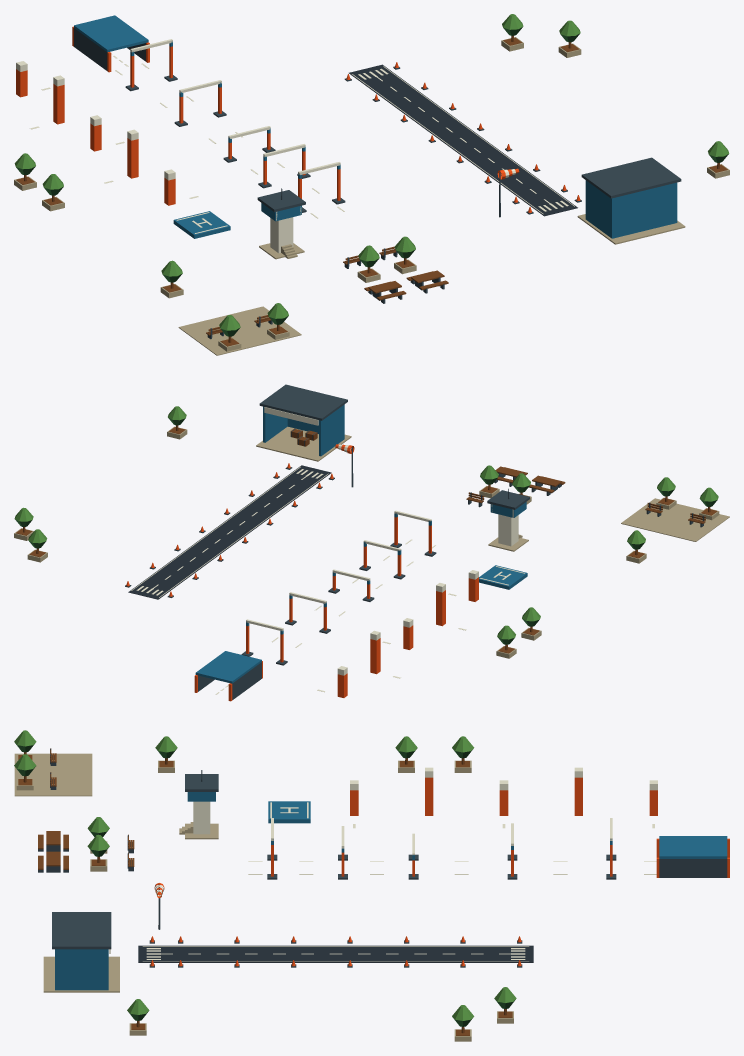
Rendered from details-campo.obj.
The picture shows the model from 3 angles, top to bottom: view 1: azimuth 30°, elevation 25°; view 2: azimuth 150°, elevation 25°; view 3: azimuth 270°, elevation 25°; orthographic projection. The views are drawn at different scales.
Visible parts, largest first — view 1: scenery, flight-obstacle; view 2: scenery, flight-obstacle; view 3: scenery, flight-obstacle.
Part boxes in pixels (x1,y1,x2,y2): scenery: [14, 14, 729, 355]; flight-obstacle: [16, 15, 345, 238]; scenery: [14, 384, 729, 694]; flight-obstacle: [194, 510, 527, 701]; scenery: [14, 730, 656, 1041]; flight-obstacle: [267, 767, 729, 879].
Size of the model in its own units: 483 by 48.6 by 507.
